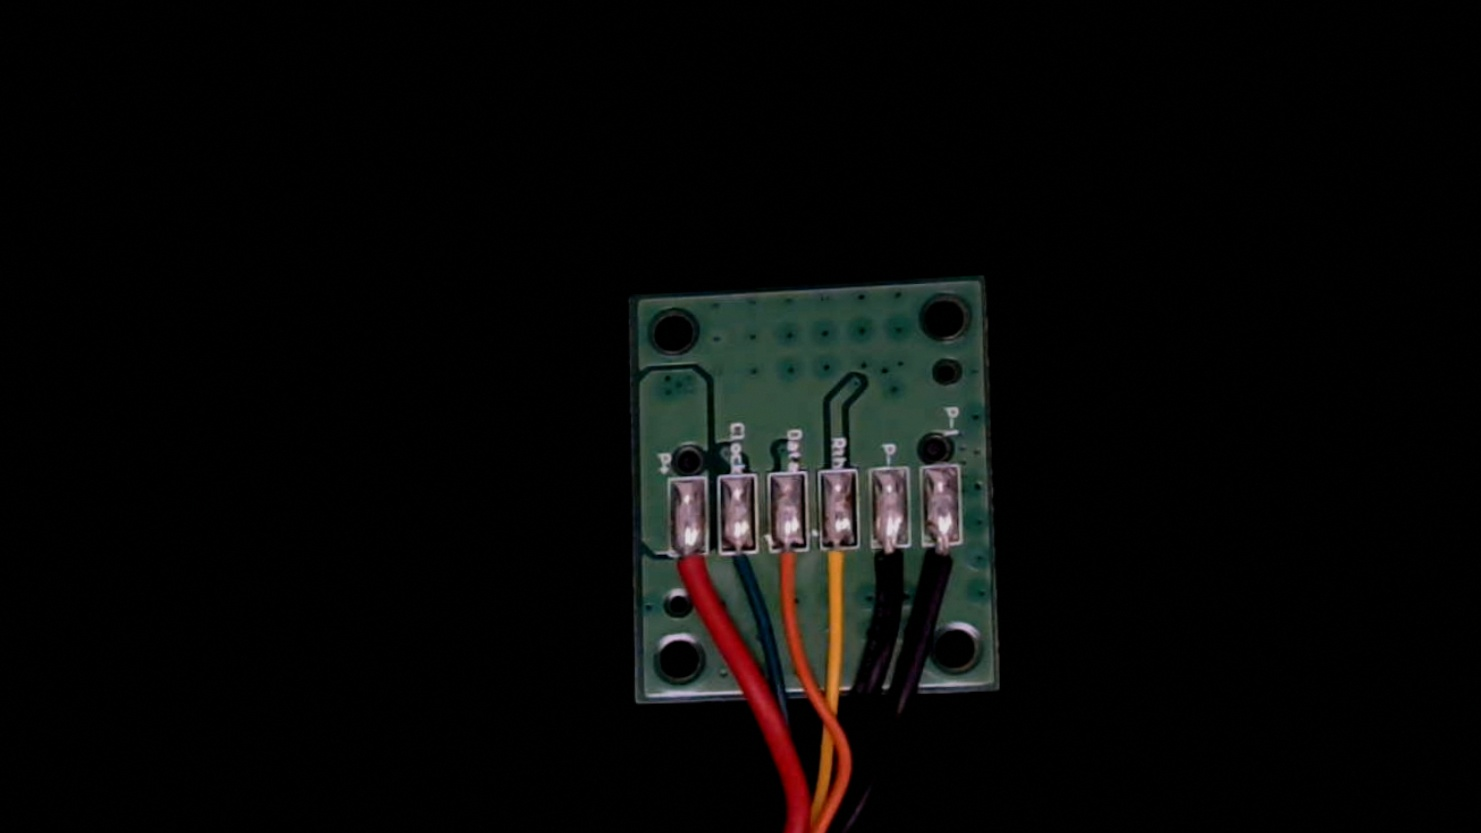Black: (866, 522, 911, 614)
Black1: (925, 520, 969, 606)
Green: (715, 534, 762, 598)
Orange: (765, 529, 808, 620)
Red: (665, 529, 710, 617)
Yellow: (814, 527, 860, 620)
